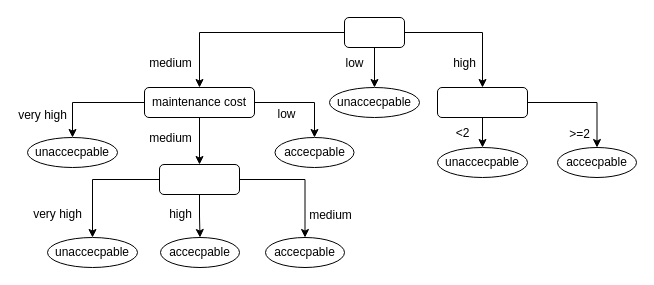
The diagram is 654 pixels wide and 285 high, and some of its shapes have lost their labels. Here are the shapes that lost their labels. From the top down, the centre of each, then its label:
At point (374, 32): "s afety".
At point (482, 102): "number of sits".
At point (199, 179): "buying price".
